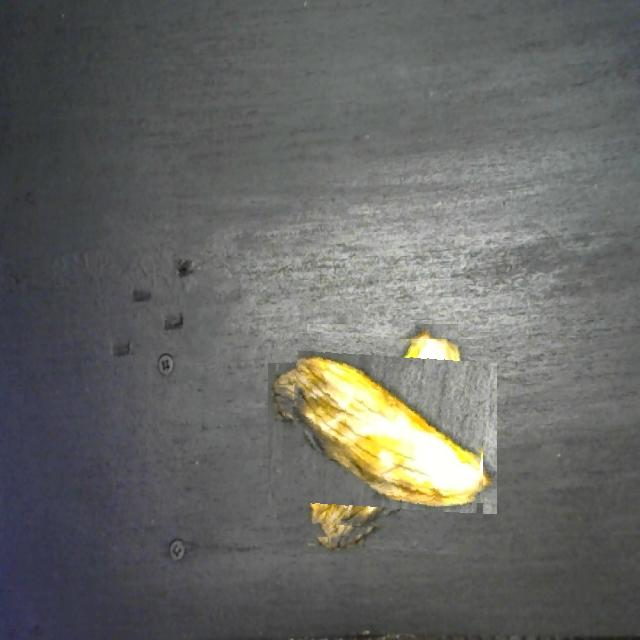biodegradable: (282, 339, 483, 539)
